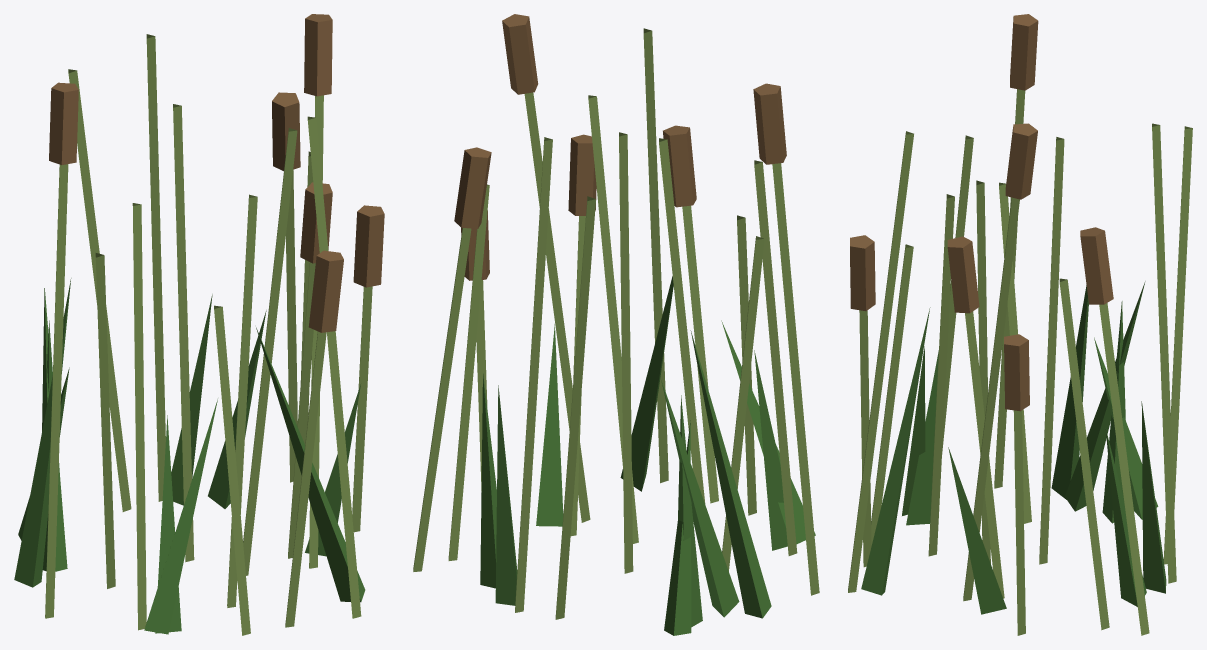
File: reeds.glb
3 renders of one model, left to right at view 1: azimuth 30°, elevation 25°; view 2: azimuth 150°, elevation 25°; view 3: azimuth 270°, elevation 25°, orthographic. The views are drawn at different scales.
Visible parts, largest first — view 1: reeds; view 2: reeds; view 3: reeds.
Boxes of the visible parts, x1,y1,x2,y2 form: reeds: (14, 14, 384, 635); reeds: (413, 14, 819, 635); reeds: (848, 14, 1192, 635).
Size of the model in its own units: 1.24 by 1.78 by 1.13.
